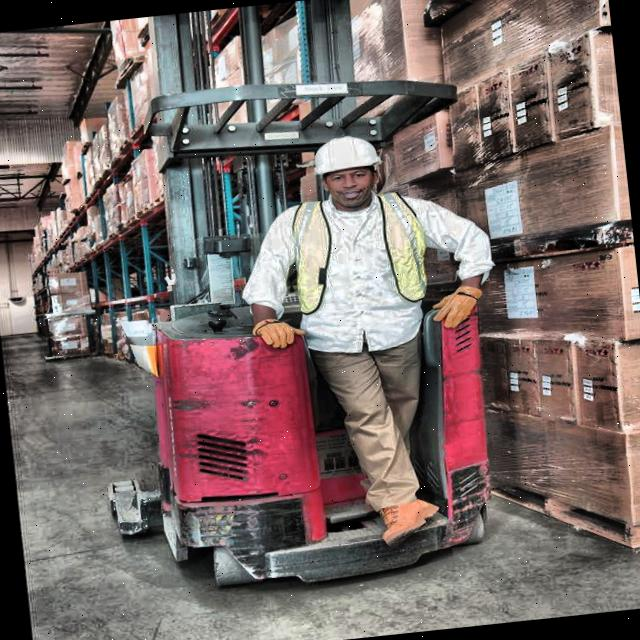helmet: (303, 128, 391, 212)
